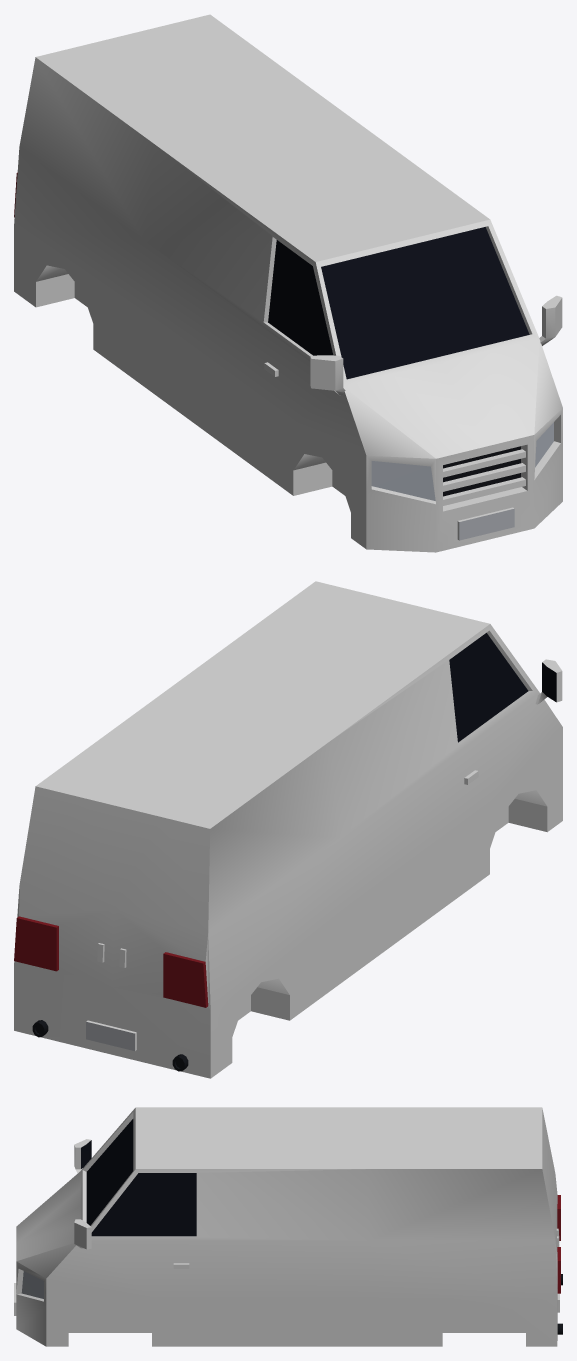
The model's file is van.glb.
The picture shows the model from 3 angles, top to bottom: view 1: azimuth 30°, elevation 25°; view 2: azimuth 150°, elevation 25°; view 3: azimuth 270°, elevation 25°; orthographic projection. The views are drawn at different scales.
Visible parts, largest first — view 1: van; view 2: van; view 3: van.
Part boxes in pixels (x1,y1,x2,y2): van: (14,14,562,552); van: (14,581,562,1078); van: (14,1107,562,1346).
Size of the model in its own units: 1.78 by 1.62 by 4.64.
